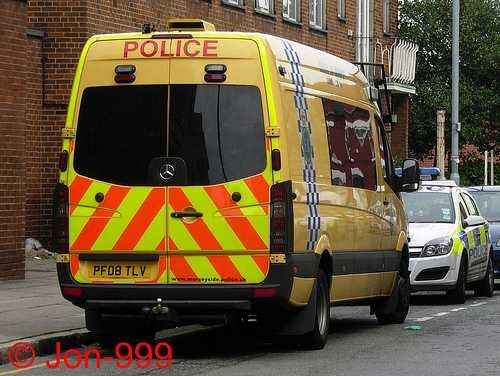Police Van: (50, 23, 422, 341)
